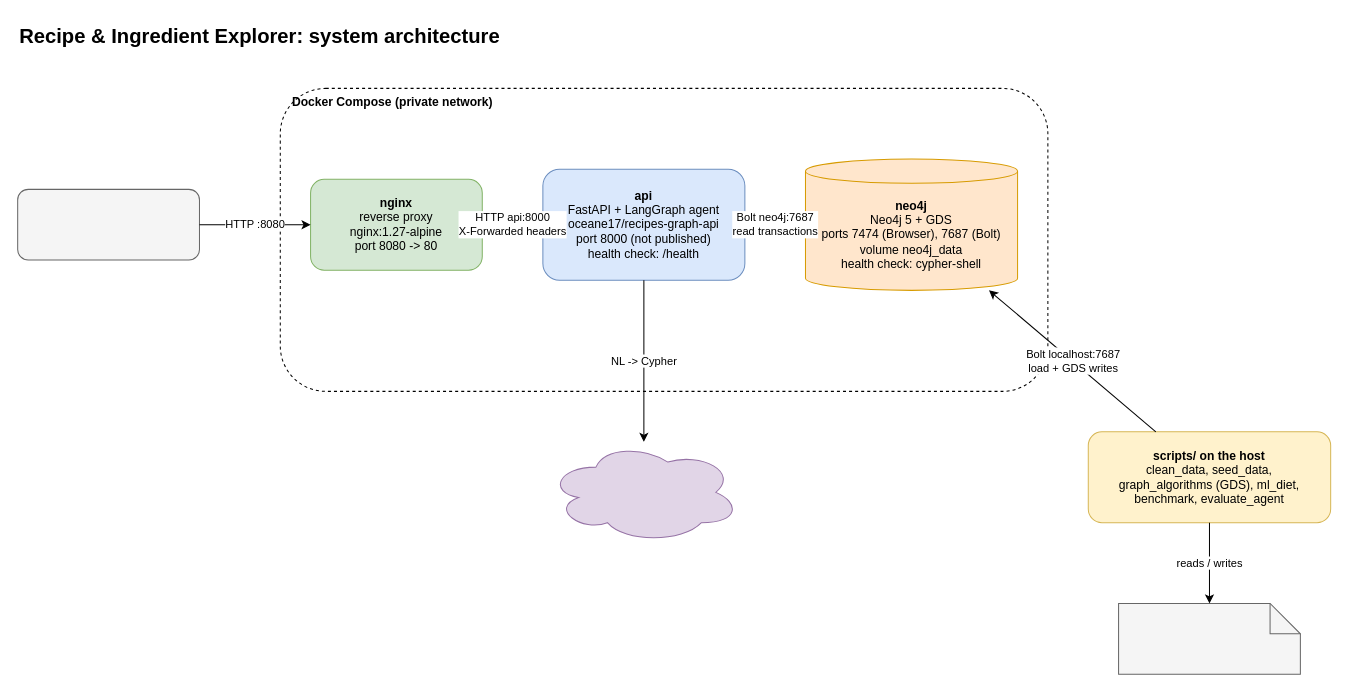
The diagram is 1348 pixels wide and 692 high, and some of its shapes have lost their labels. Each missing label, with the centre of its shape:
Client browser, curl, demo.ipynb: the point at 108,224
data/ raw CSV -> processed CSV: the point at 1209,638
Gemini API (Google, HTTPS): the point at 643,492
